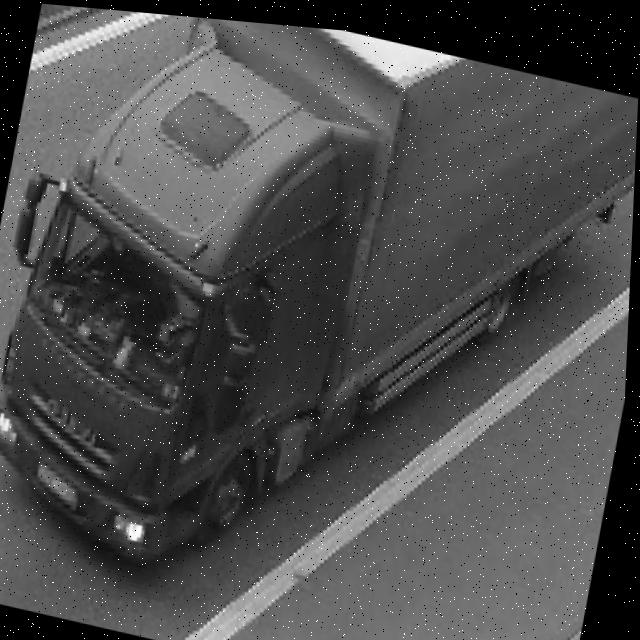truck: (1, 1, 426, 610)
